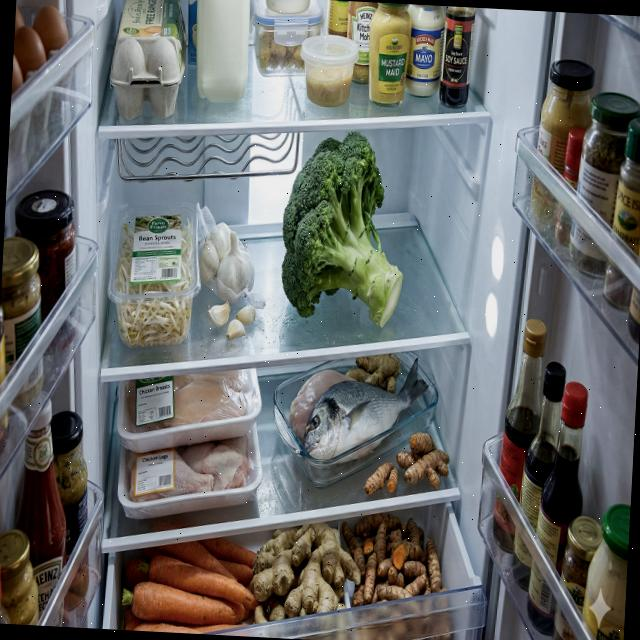bean_sprouts: (112, 214, 198, 351)
brocolli: (278, 127, 411, 329)
carrot: (121, 532, 262, 636)
chicken: (124, 428, 252, 507), (126, 364, 250, 434)
egg: (107, 0, 189, 122), (9, 5, 71, 137)
fish: (302, 352, 432, 466)
garlic: (196, 221, 261, 342)
ginger: (248, 517, 364, 630), (345, 351, 402, 395)
turmeric: (338, 510, 452, 612), (395, 430, 451, 490), (364, 461, 400, 496)
